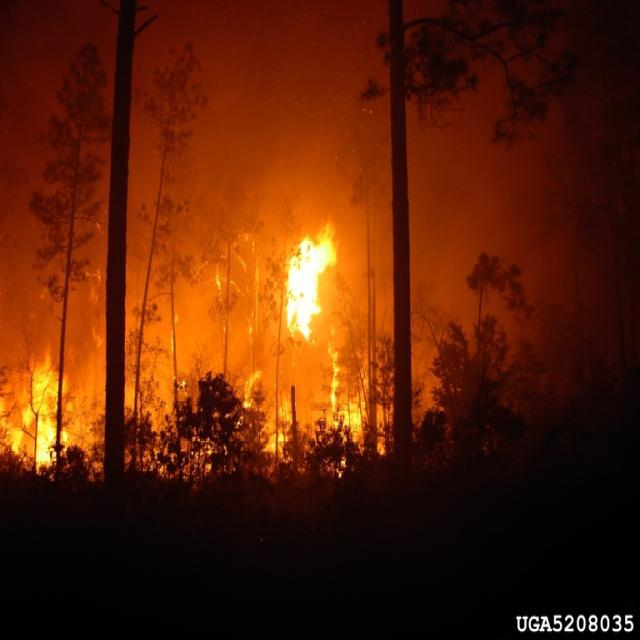Fire: (0, 338, 74, 474), (284, 213, 342, 341)
